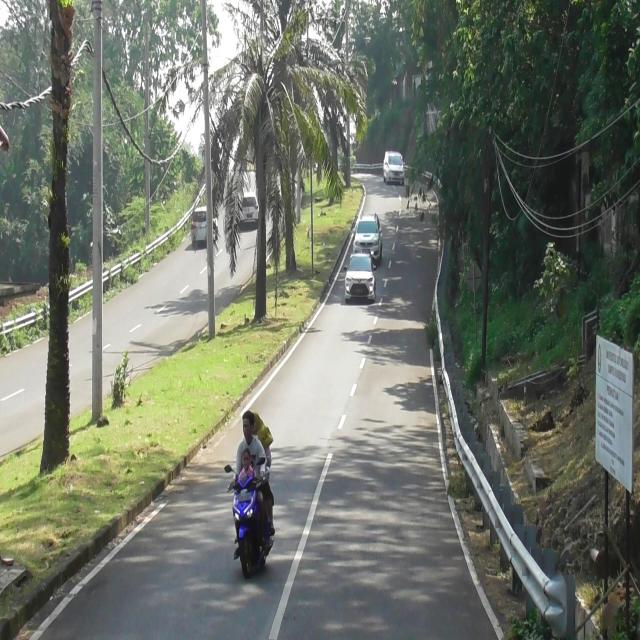motorcycle: (225, 464, 273, 575)
person: (228, 412, 267, 482), (252, 410, 272, 471), (237, 451, 255, 482)
rider_region: (225, 409, 279, 581)
